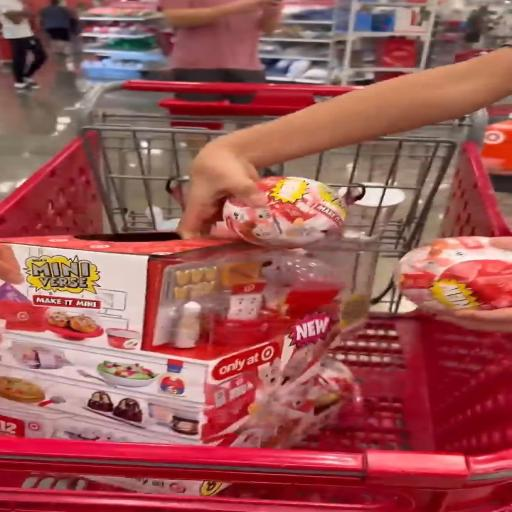shopping_cart: (0, 78, 512, 512)
